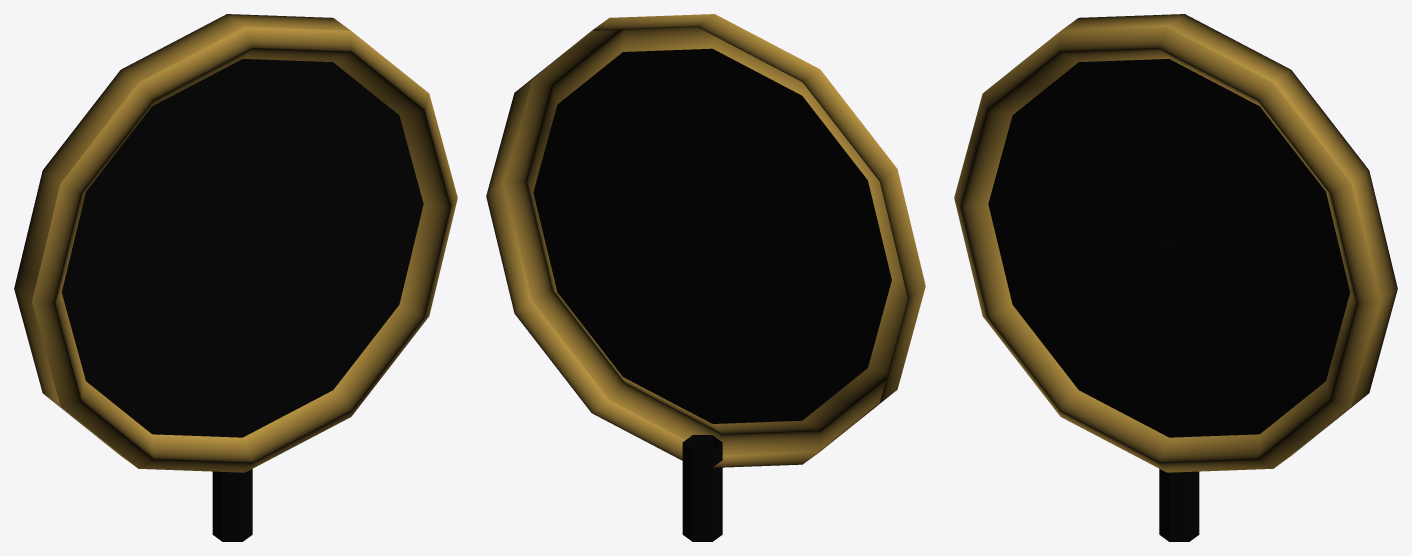
The model's file is gauge_large.glb.
3 renders of one model, left to right at view 1: azimuth 30°, elevation 25°; view 2: azimuth 150°, elevation 25°; view 3: azimuth 330°, elevation 25°, orthographic.
Parts seen in each view (by area): view 1: gauge, brass, dark; view 2: gauge, brass; view 3: gauge, brass, dark.
Boxes of the visible parts, x1,y1,x2,y2 form: gauge: [61, 59, 423, 437]; brass: [14, 14, 457, 541]; dark: [88, 74, 399, 403]; gauge: [533, 48, 891, 423]; brass: [486, 14, 925, 541]; gauge: [988, 59, 1350, 437]; brass: [954, 14, 1397, 541]; dark: [1012, 74, 1323, 403].
Size of the model in its own units: 0.22 by 0.255 by 0.027.
